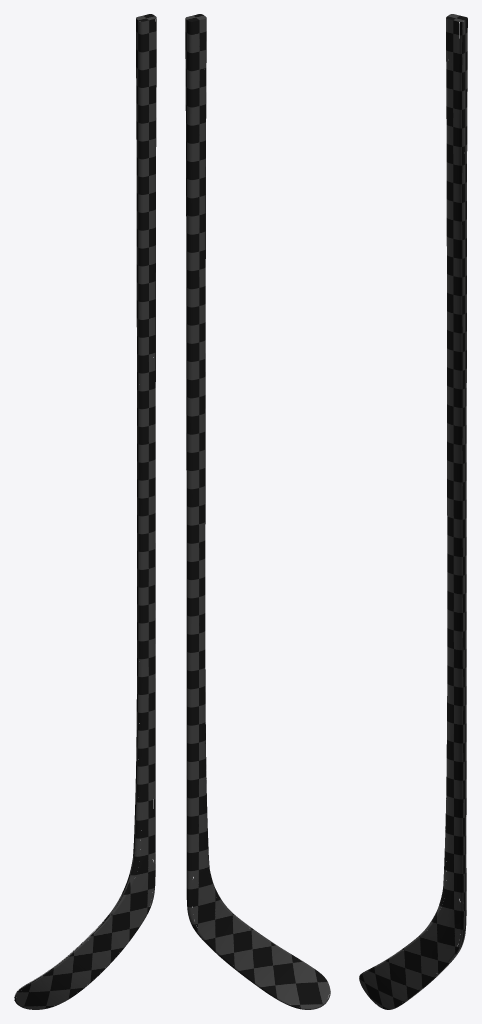
The model's file is P38-SBO.glb.
3 renders of one model, left to right at view 1: azimuth 30°, elevation 25°; view 2: azimuth 210°, elevation 25°; view 3: azimuth 330°, elevation 25°, orthographic. The views are drawn at different scales.
Parts seen in each view (by area): view 1: geometry_0; view 2: geometry_0; view 3: geometry_0.
Boxes of the visible parts, <box> form: geometry_0: <box>14,14,156,1009</box>; geometry_0: <box>185,14,330,1009</box>; geometry_0: <box>359,14,467,1009</box>.
Size of the model in its own units: 212 by 1650 by 76.85.
1 material, 1 textured.
